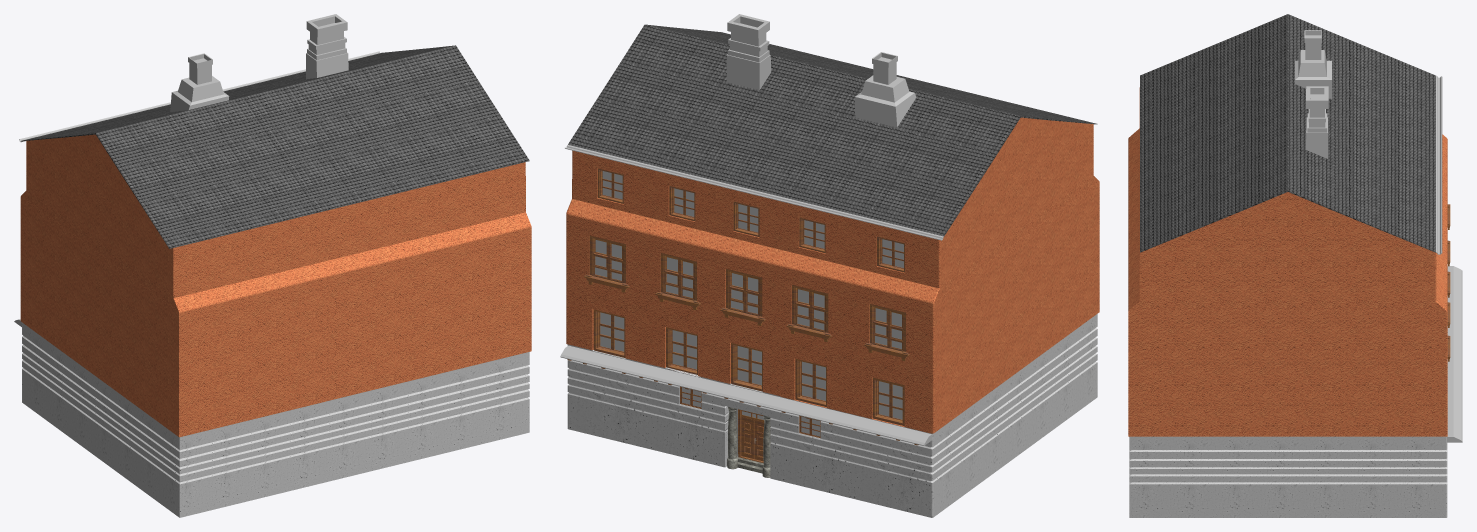
Rendered from Apartment1_Low.fbx.
3 renders of one model, left to right at view 1: azimuth 30°, elevation 25°; view 2: azimuth 150°, elevation 25°; view 3: azimuth 270°, elevation 25°, orthographic. The views are drawn at different scales.
Visible parts, largest first — view 1: Apartment1, 1st_C.018, Apartment1.005, Apartment1.001, Apartment1.004, Apartment1.003, Apartment1.002, 5th_L_C.012; view 2: Apartment1, 1st_C.018, Apartment1.005, Apartment1.001, 5th_L_C.012, 1st_C.032, Apartment1.004, Apartment1.002, Apartment1.003, Plane.030, Plane.033, Plane.028 (+14 smaller); view 3: Apartment1, 1st_C.018, Apartment1.001, 5th_L_C.012, 1st_C.032.
Boxes of the visible parts, bbox=[...] form: Apartment1: bbox=[20, 134, 531, 437]; 1st_C.018: bbox=[19, 45, 529, 248]; Apartment1.005: bbox=[22, 322, 257, 517]; Apartment1.001: bbox=[450, 351, 529, 451]; Apartment1.004: bbox=[257, 401, 325, 498]; Apartment1.003: bbox=[325, 386, 389, 482]; Apartment1.002: bbox=[388, 371, 451, 466]; 5th_L_C.012: bbox=[170, 14, 348, 111]; Apartment1: bbox=[566, 117, 1099, 433]; 1st_C.018: bbox=[565, 24, 1097, 240]; Apartment1.005: bbox=[851, 314, 1097, 517]; Apartment1.001: bbox=[567, 344, 649, 448]; 5th_L_C.012: bbox=[726, 14, 916, 127]; 1st_C.032: bbox=[560, 345, 932, 445]; Apartment1.004: bbox=[780, 397, 851, 497]; Apartment1.002: bbox=[648, 364, 713, 464]; Apartment1.003: bbox=[713, 380, 780, 480]; Plane.030: bbox=[720, 269, 765, 325]; Plane.033: bbox=[584, 235, 629, 292]; Plane.028: bbox=[864, 304, 909, 360]; Apartment1: bbox=[1128, 87, 1447, 436]; 1st_C.018: bbox=[1140, 14, 1442, 254]; Apartment1.001: bbox=[1129, 436, 1447, 517]; 5th_L_C.012: bbox=[1295, 30, 1331, 158]; 1st_C.032: bbox=[1447, 266, 1462, 442].
Bounding box in the file's own units: 18.4 × 18.01 × 14.73.
